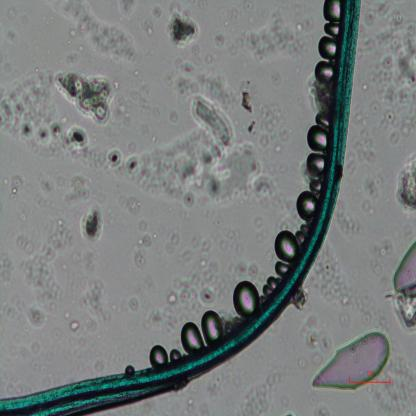Air bubble: (310, 327, 391, 391), (389, 234, 416, 291), (233, 278, 258, 317), (274, 230, 299, 261), (180, 320, 204, 352), (201, 310, 223, 343), (305, 123, 330, 152), (295, 190, 318, 218), (317, 36, 339, 60), (306, 152, 327, 177), (315, 61, 336, 84), (149, 344, 169, 367), (323, 0, 343, 21), (262, 275, 278, 297), (320, 22, 342, 36), (274, 260, 291, 276), (310, 178, 324, 194), (169, 348, 182, 363)
Background material: (109, 97, 277, 199), (311, 249, 385, 333), (150, 262, 226, 332), (15, 214, 75, 302), (61, 0, 141, 65), (366, 53, 416, 136), (5, 105, 91, 153), (237, 15, 307, 72), (55, 66, 114, 128), (170, 56, 235, 110), (358, 1, 411, 51), (69, 266, 111, 324), (236, 373, 287, 416), (381, 354, 416, 416), (167, 235, 232, 264), (334, 198, 368, 244), (394, 151, 416, 210), (167, 13, 200, 49), (60, 177, 94, 210), (133, 223, 156, 270), (80, 203, 106, 244), (362, 174, 392, 208), (356, 130, 378, 168), (397, 44, 416, 84), (16, 305, 52, 326), (230, 252, 258, 279), (142, 2, 164, 35), (32, 174, 57, 203), (113, 93, 132, 124), (85, 150, 111, 170), (237, 87, 254, 115), (114, 0, 138, 16), (123, 196, 142, 215), (9, 172, 24, 196), (127, 297, 142, 314), (280, 130, 289, 151), (69, 320, 79, 332)
Microfibre: (0, 0, 362, 415)
